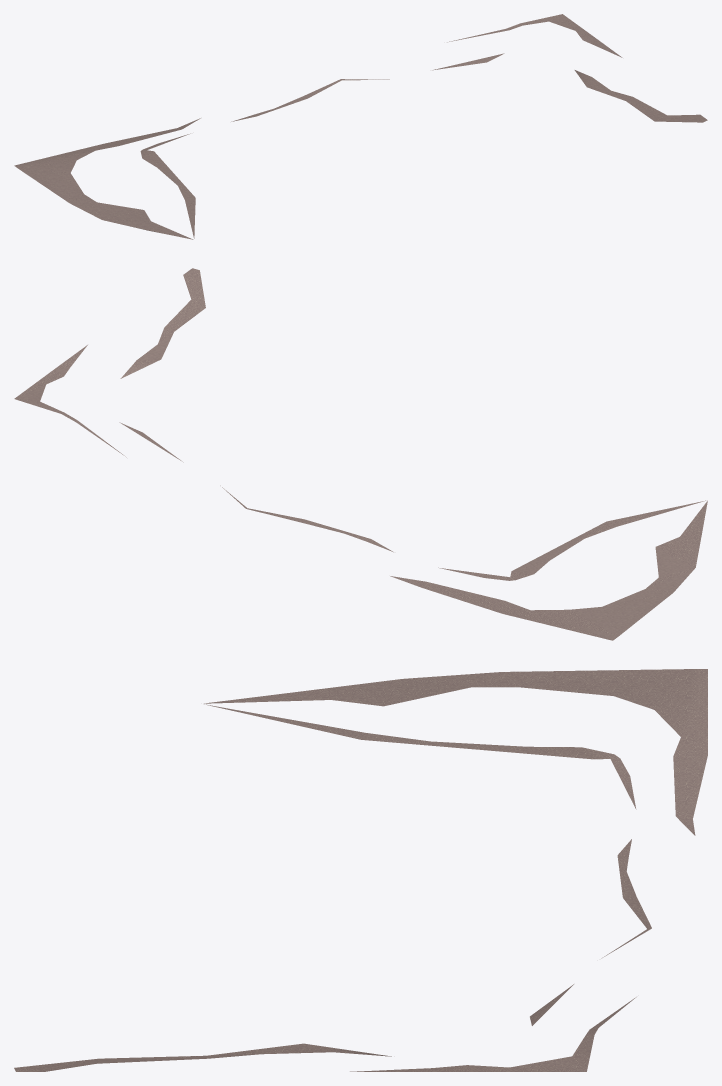
The model's file is kd_stage_13612f_3_35_bounded.glb.
3 renders of one model, top to bottom at view 1: azimuth 30°, elevation 25°; view 2: azimuth 150°, elevation 25°; view 3: azimuth 270°, elevation 25°, orthographic. The views are drawn at different scales.
Visible parts, largest first — view 1: kd_stage_13612f_3_35_bounded; view 2: kd_stage_13612f_3_35_bounded; view 3: kd_stage_13612f_3_35_bounded.
Part boxes in pixels (left/top/right/bottom): kd_stage_13612f_3_35_bounded: left=14, top=14, right=707, bottom=239; kd_stage_13612f_3_35_bounded: left=14, top=268, right=707, bottom=640; kd_stage_13612f_3_35_bounded: left=14, top=669, right=707, bottom=1071.
Size of the model in its own units: 13.59 by 1.2 by 8.02.
1 material, 1 textured.
